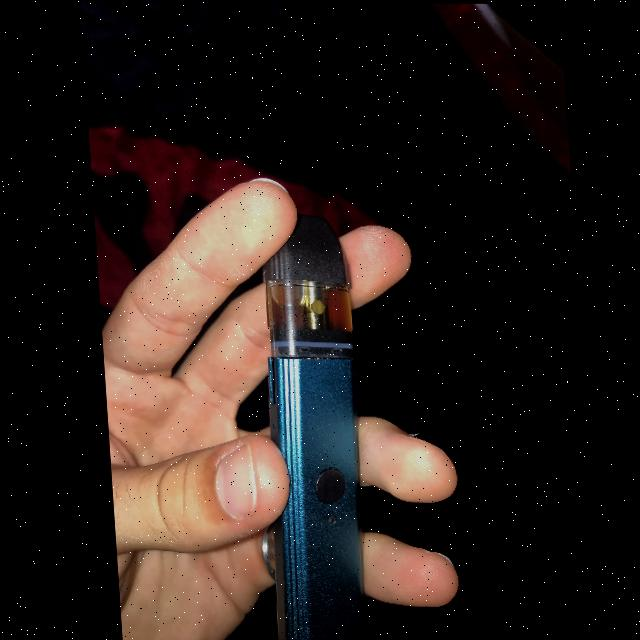vape: (245, 215, 365, 640)
